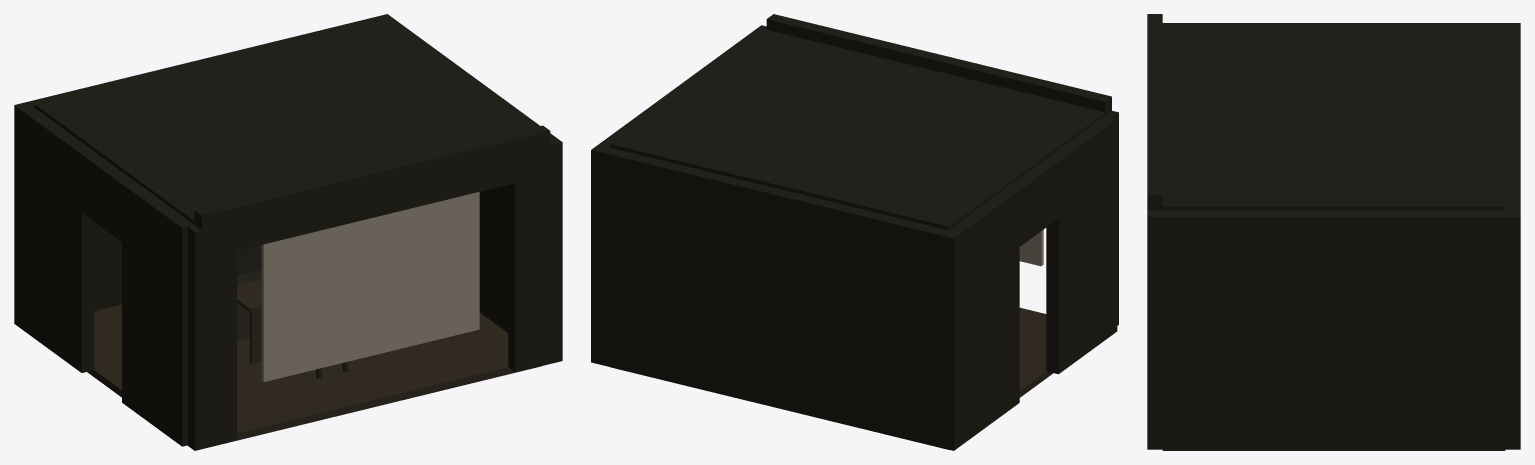
3 views of the same model, side by side, from view 1: azimuth 30°, elevation 25°; view 2: azimuth 150°, elevation 25°; view 3: azimuth 270°, elevation 25° (orthographic). The views are drawn at different scales.
Parts seen in each view (by area): view 1: Z6_Ceiling, Z6_Mirror_Frame, Z6_Floor, Z6_Wall_S_Top, Z6_Wall_W_N, Z6_Wall_W_S, Z6_Wall_S_L, Z6_Wall_S_R, Z6_Wall_E, Z6_Wall_N, Z6_Wall_W_Lintel, Z6_Table_Top (+2 smaller); view 2: Z6_Wall_N, Z6_Ceiling, Z6_Wall_W_S, Z6_Wall_W_N, Z6_Wall_S_Top, Z6_Wall_W_Lintel, Z6_Floor, Z6_Wall_E, Z6_Mirror_Frame; view 3: Z6_Wall_E, Z6_Ceiling, Z6_Wall_N, Z6_Wall_S_Top, Z6_Floor, Z6_Wall_W_S, Z6_Wall_W_N.
Part boxes in pixels (x1,y1,x2,y2): Z6_Ceiling: (34,19,531,224); Z6_Mirror_Frame: (261,192,479,381); Z6_Floor: (87,304,540,450); Z6_Wall_S_Top: (194,125,550,258); Z6_Wall_W_N: (21,107,94,372); Z6_Wall_W_S: (122,181,194,446); Z6_Wall_S_L: (188,222,236,450); Z6_Wall_S_R: (508,139,557,372); Z6_Wall_E: (378,14,562,362); Z6_Wall_N: (14,14,394,328); Z6_Wall_W_Lintel: (81,151,133,241); Z6_Table_Top: (237,279,261,311); Z6_Wall_N: (591,146,960,450); Z6_Ceiling: (610,30,1104,230); Z6_Wall_W_S: (1046,116,1117,374); Z6_Wall_W_N: (949,187,1019,445); Z6_Wall_S_Top: (766,14,1111,115); Z6_Wall_W_Lintel: (1007,159,1058,246); Z6_Floor: (611,307,1053,449); Z6_Wall_E: (593,25,766,228); Z6_Mirror_Frame: (1019,229,1043,266); Z6_Wall_E: (1147,210,1520,449); Z6_Ceiling: (1162,25,1505,210); Z6_Wall_N: (1505,23,1520,449); Z6_Wall_S_Top: (1147,14,1162,210); Z6_Floor: (1162,449,1505,450); Z6_Wall_W_S: (1162,23,1291,25); Z6_Wall_W_N: (1376,23,1505,25).
Size of the model in its own units: 5.36 by 3.3 by 4.36.
